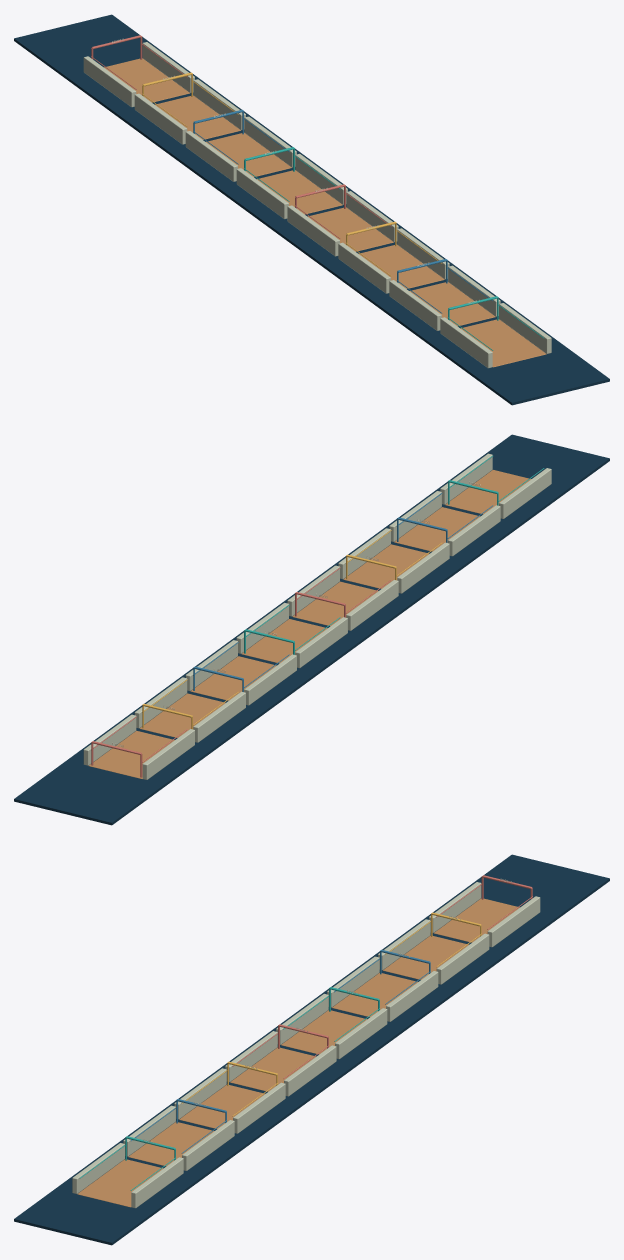
The model's file is festival-rooms.glb.
3 views of the same model, one above another, from view 1: azimuth 30°, elevation 25°; view 2: azimuth 150°, elevation 25°; view 3: azimuth 330°, elevation 25° (orthographic).
Parts seen in each view (by area): view 1: Venue; view 2: Venue; view 3: Venue.
Part boxes in pixels (x1,y1,x2,y2): Venue: [14, 14, 609, 405]; Venue: [14, 434, 609, 825]; Venue: [14, 854, 609, 1245].
Bounding box in the file's own units: 20 × 5.71 × 176.
